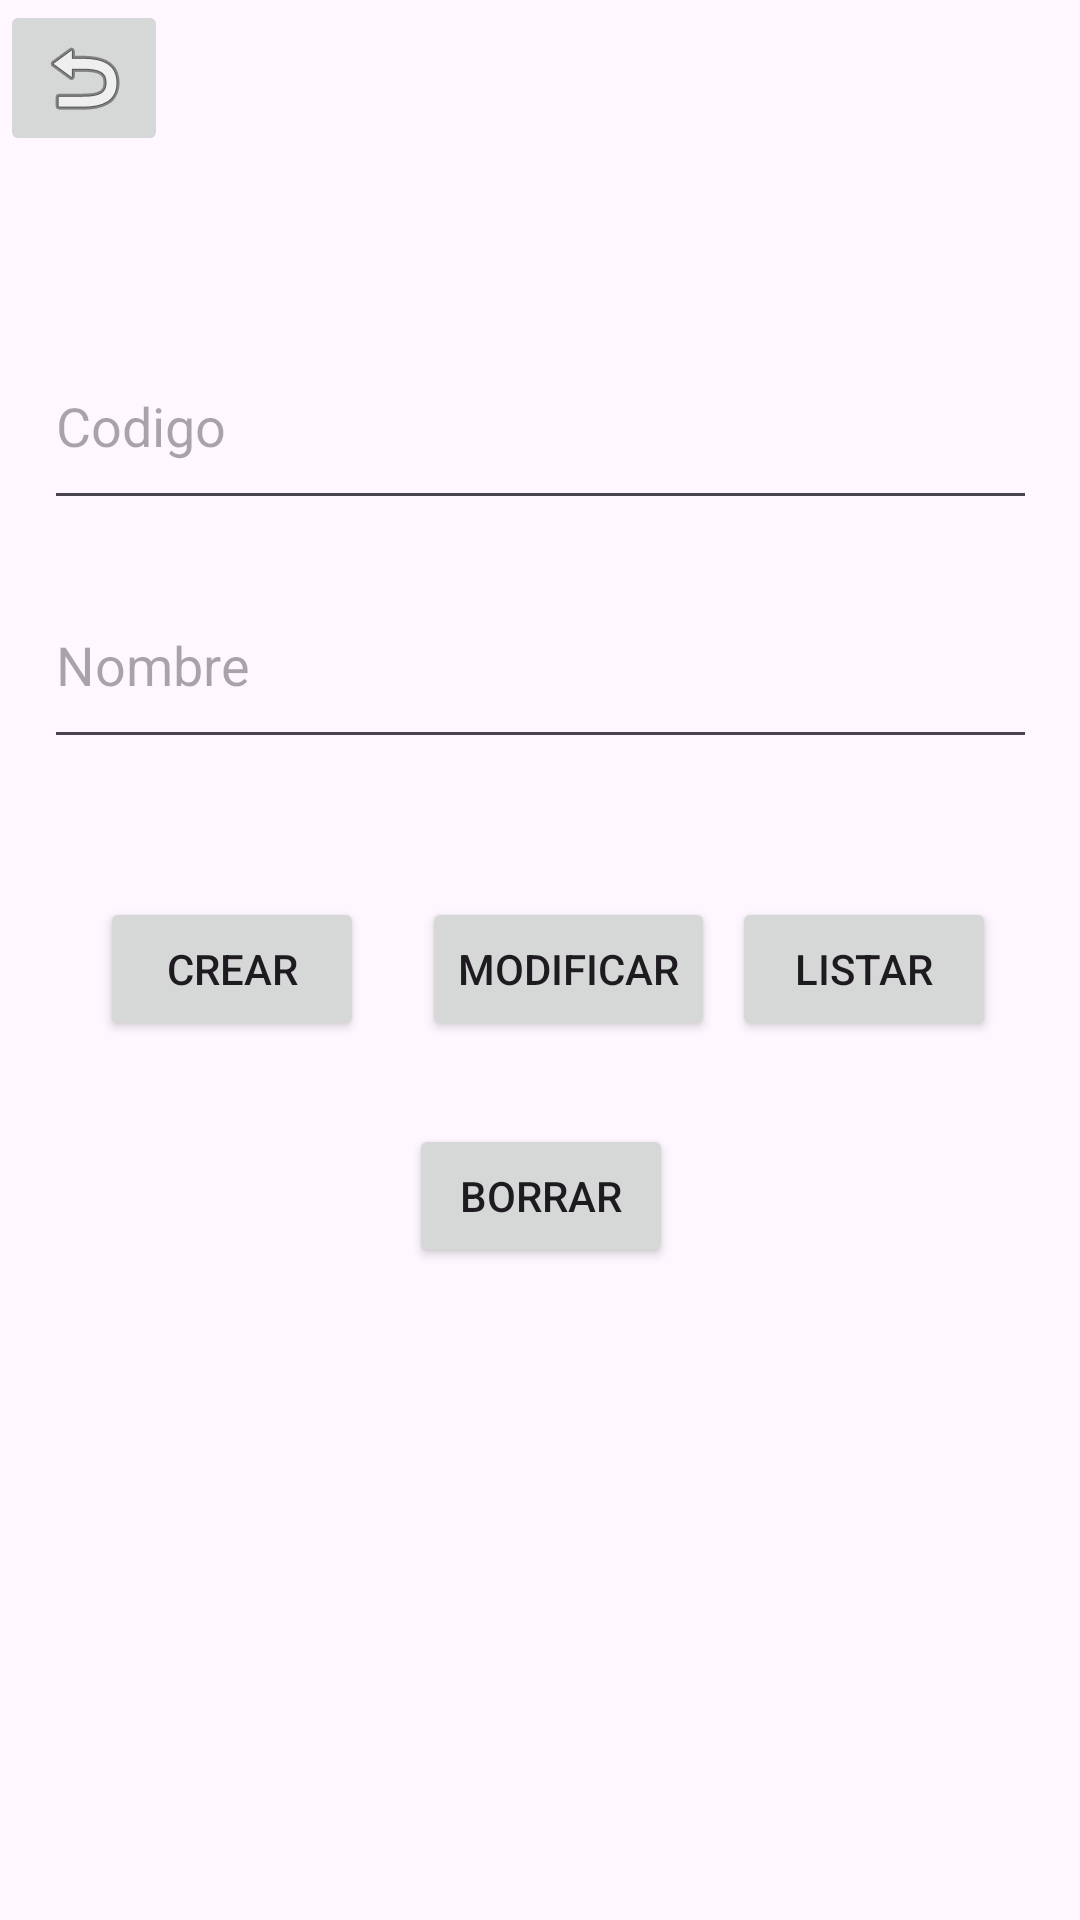

Icons on this 1080w x 1920h Android screen, each with its box as (x1, y1, x2, y2):
revert: (12, 18, 156, 138)
